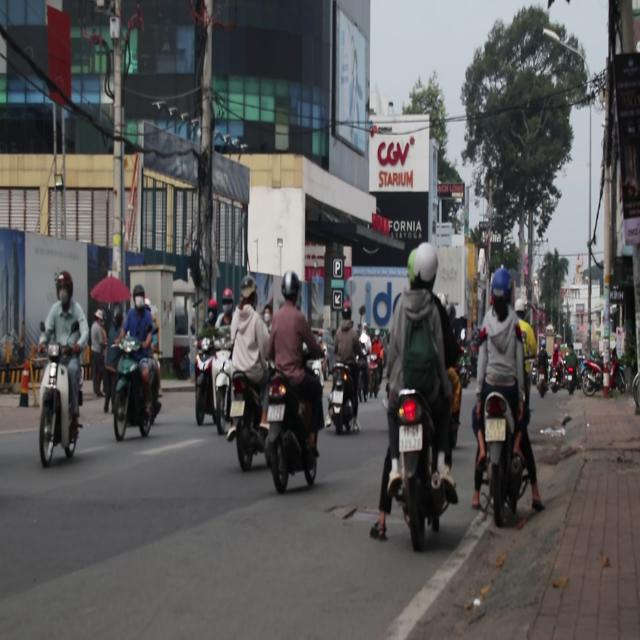motorbike: (372, 385, 451, 551), (245, 369, 320, 493), (477, 388, 535, 530), (34, 354, 88, 469), (110, 345, 164, 445), (227, 369, 268, 471), (195, 331, 236, 431), (327, 362, 361, 435), (564, 350, 580, 392)
